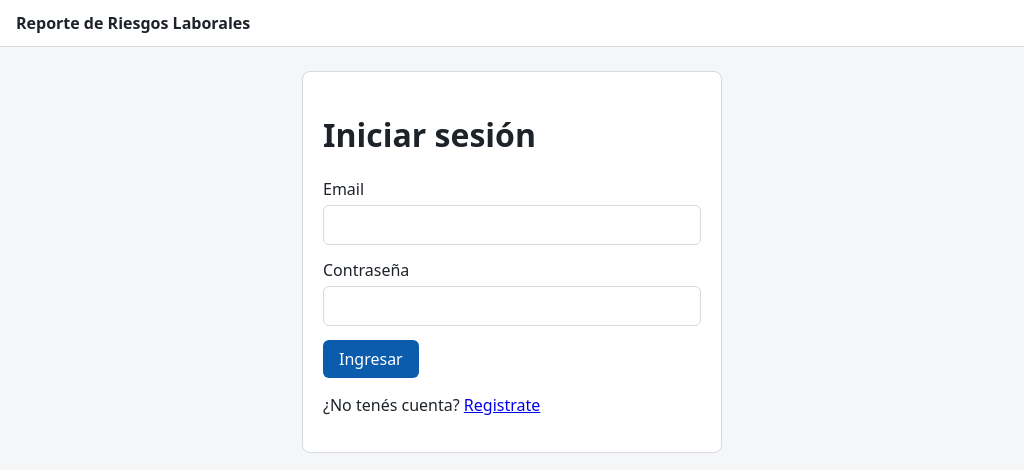
Test: Login › envía las credenciales y entra a la app
Type "ana@riesgos.test" into the field labelled "Email" at (512, 225), box [323,205,701,245]
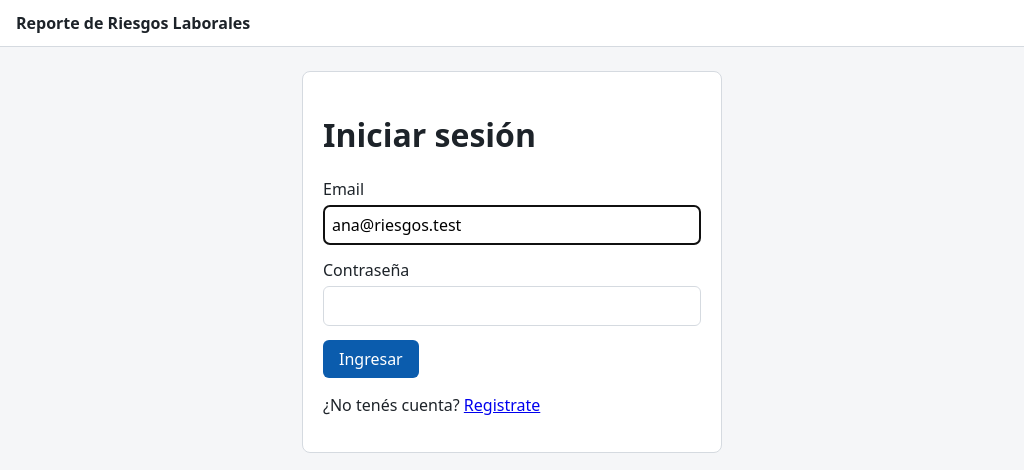
Type "Clave12345" into the password field labelled "Contraseña" at (512, 306), box [323,286,701,326]
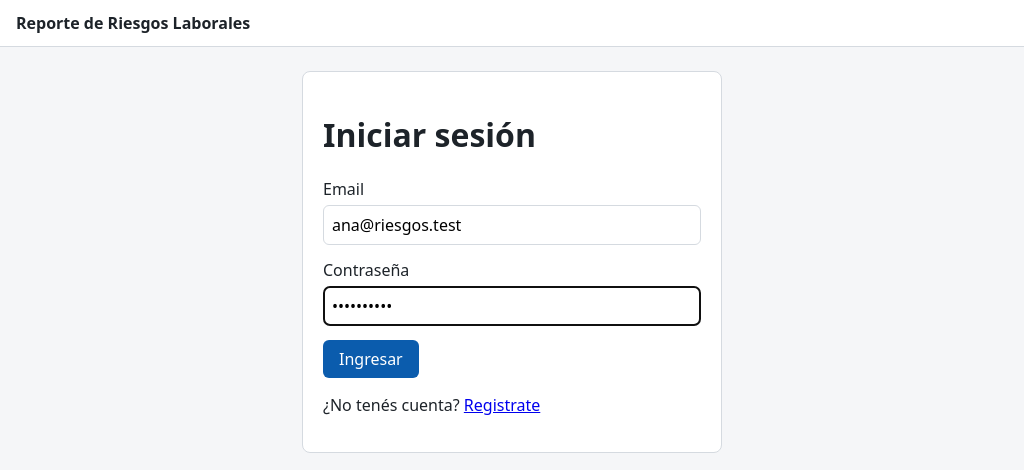
Click the button "Ingresar" at (371, 359), box [323,340,419,378]
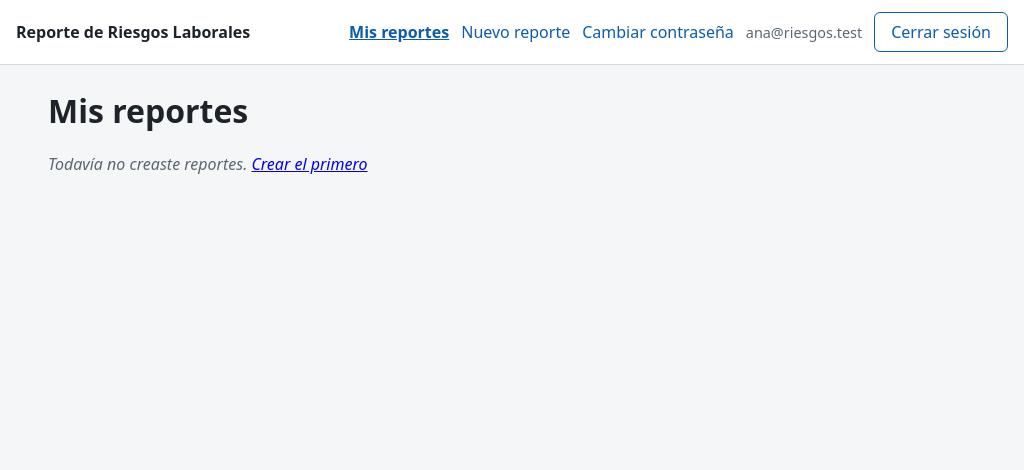
Expected: the text "ana@riesgos.test" is shown, [746,22,862,42]
